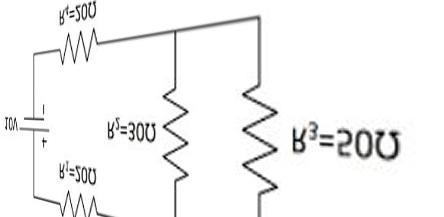resistor: (230, 71, 280, 202), (157, 78, 197, 182), (46, 21, 102, 64), (50, 194, 114, 215)
